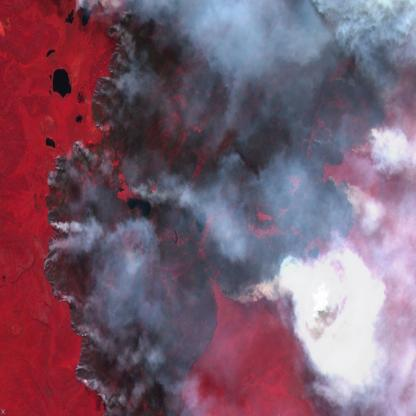fire: (70, 313, 117, 414), (89, 16, 132, 125), (40, 126, 91, 201), (36, 226, 76, 307), (226, 276, 286, 308), (320, 168, 362, 206), (354, 119, 390, 155)
